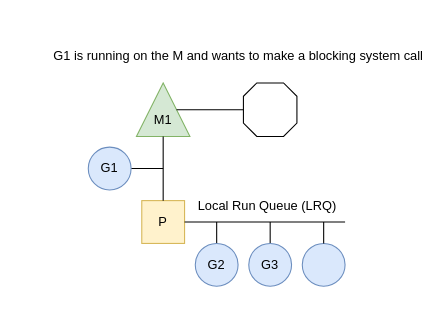
Image size: 448x336. Some labels were removed from this diagram. The shapes that lost their labels are listed below. From the top down, each one's centre as x and y in pixels, then its label:
point (269, 109): Core
point (323, 264): G4
